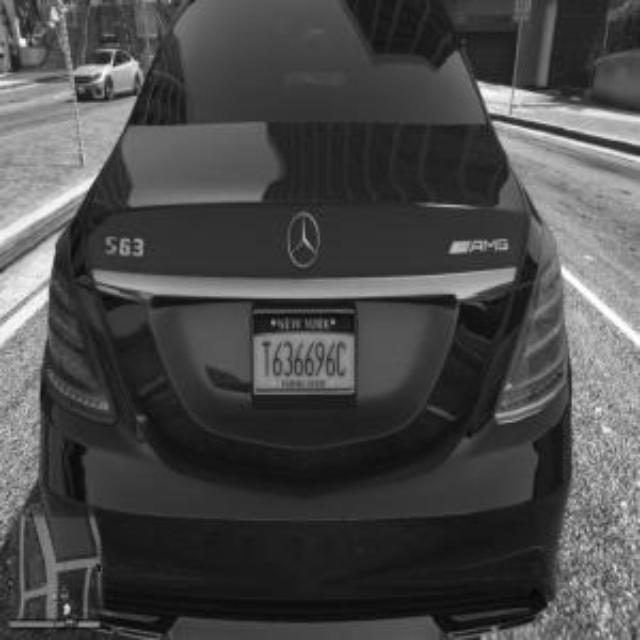License Plate: (253, 309, 356, 393)
